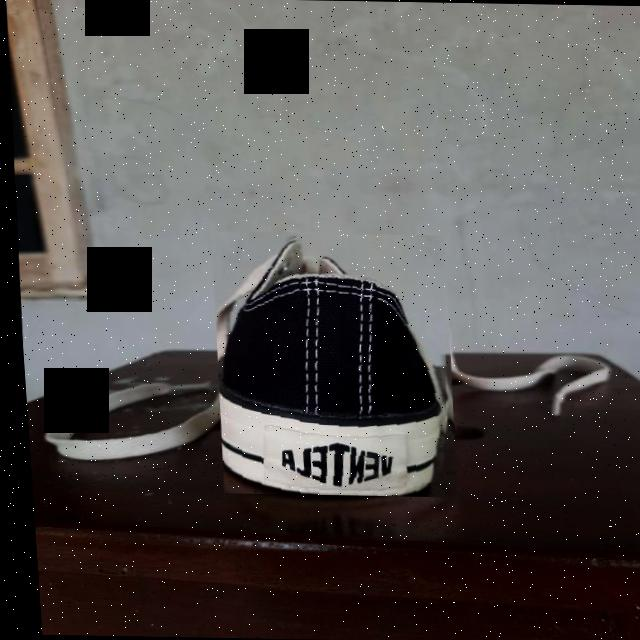shoe: (203, 231, 455, 497)
